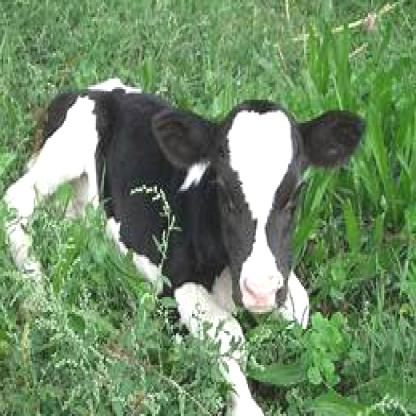cow: (2, 76, 370, 414)
